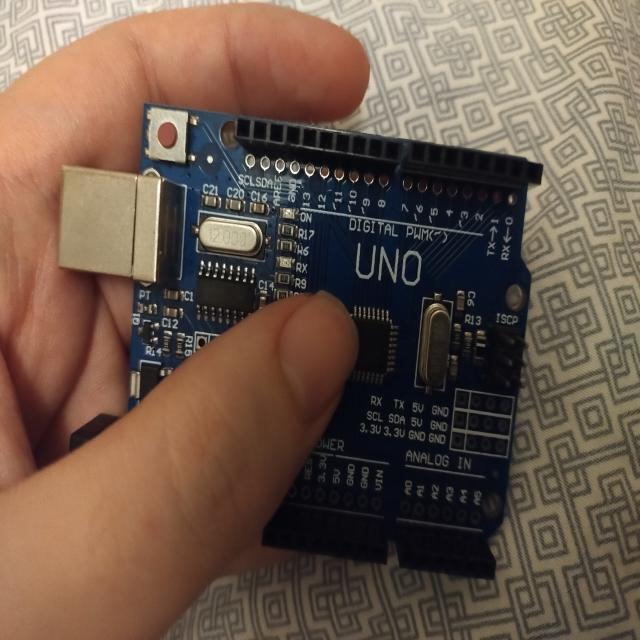arduino: (48, 93, 540, 596)
